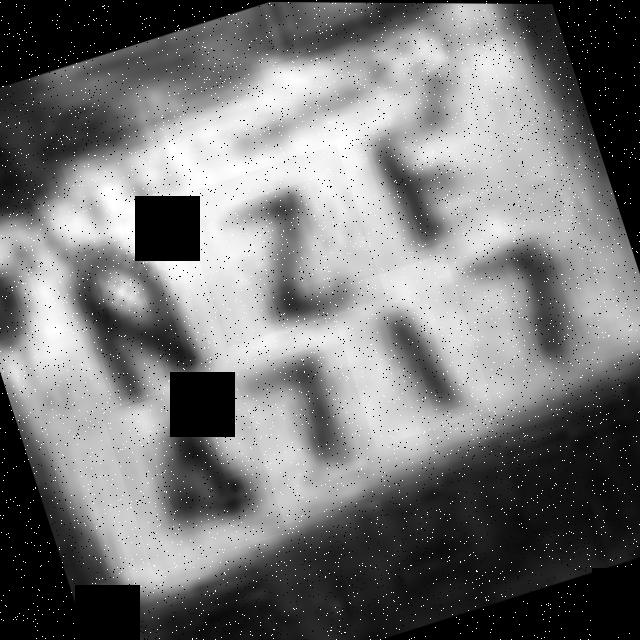1: (326, 252, 495, 448)
4: (102, 369, 287, 573)
7: (406, 194, 621, 398)
F: (324, 65, 516, 271)
Z: (178, 143, 386, 348)
